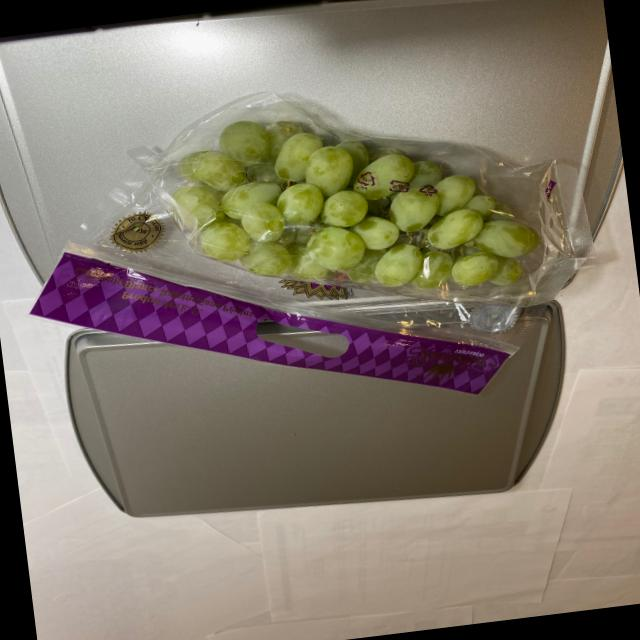grapes: (169, 90, 566, 338)
